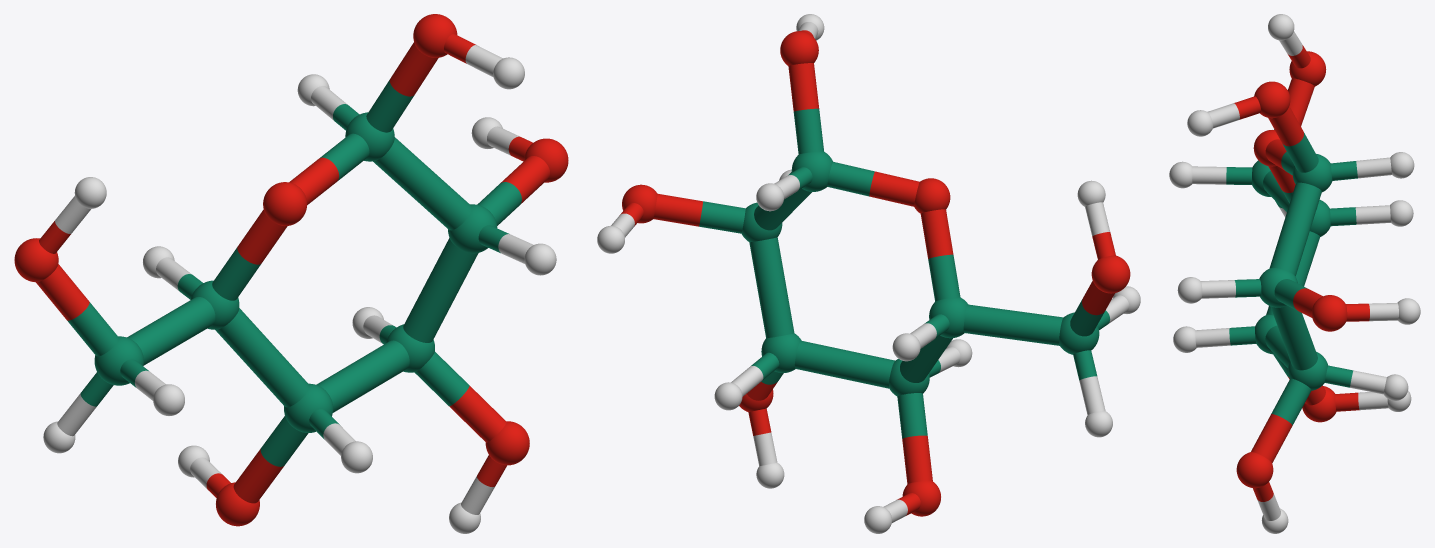
Rendered from Sugar.glb.
3 views of the same model, side by side, from view 1: azimuth 30°, elevation 25°; view 2: azimuth 150°, elevation 25°; view 3: azimuth 270°, elevation 25° (orthographic). The views are drawn at different scales.
Bounding box in the file's own units: 6.69 × 5.98 × 3.12.
